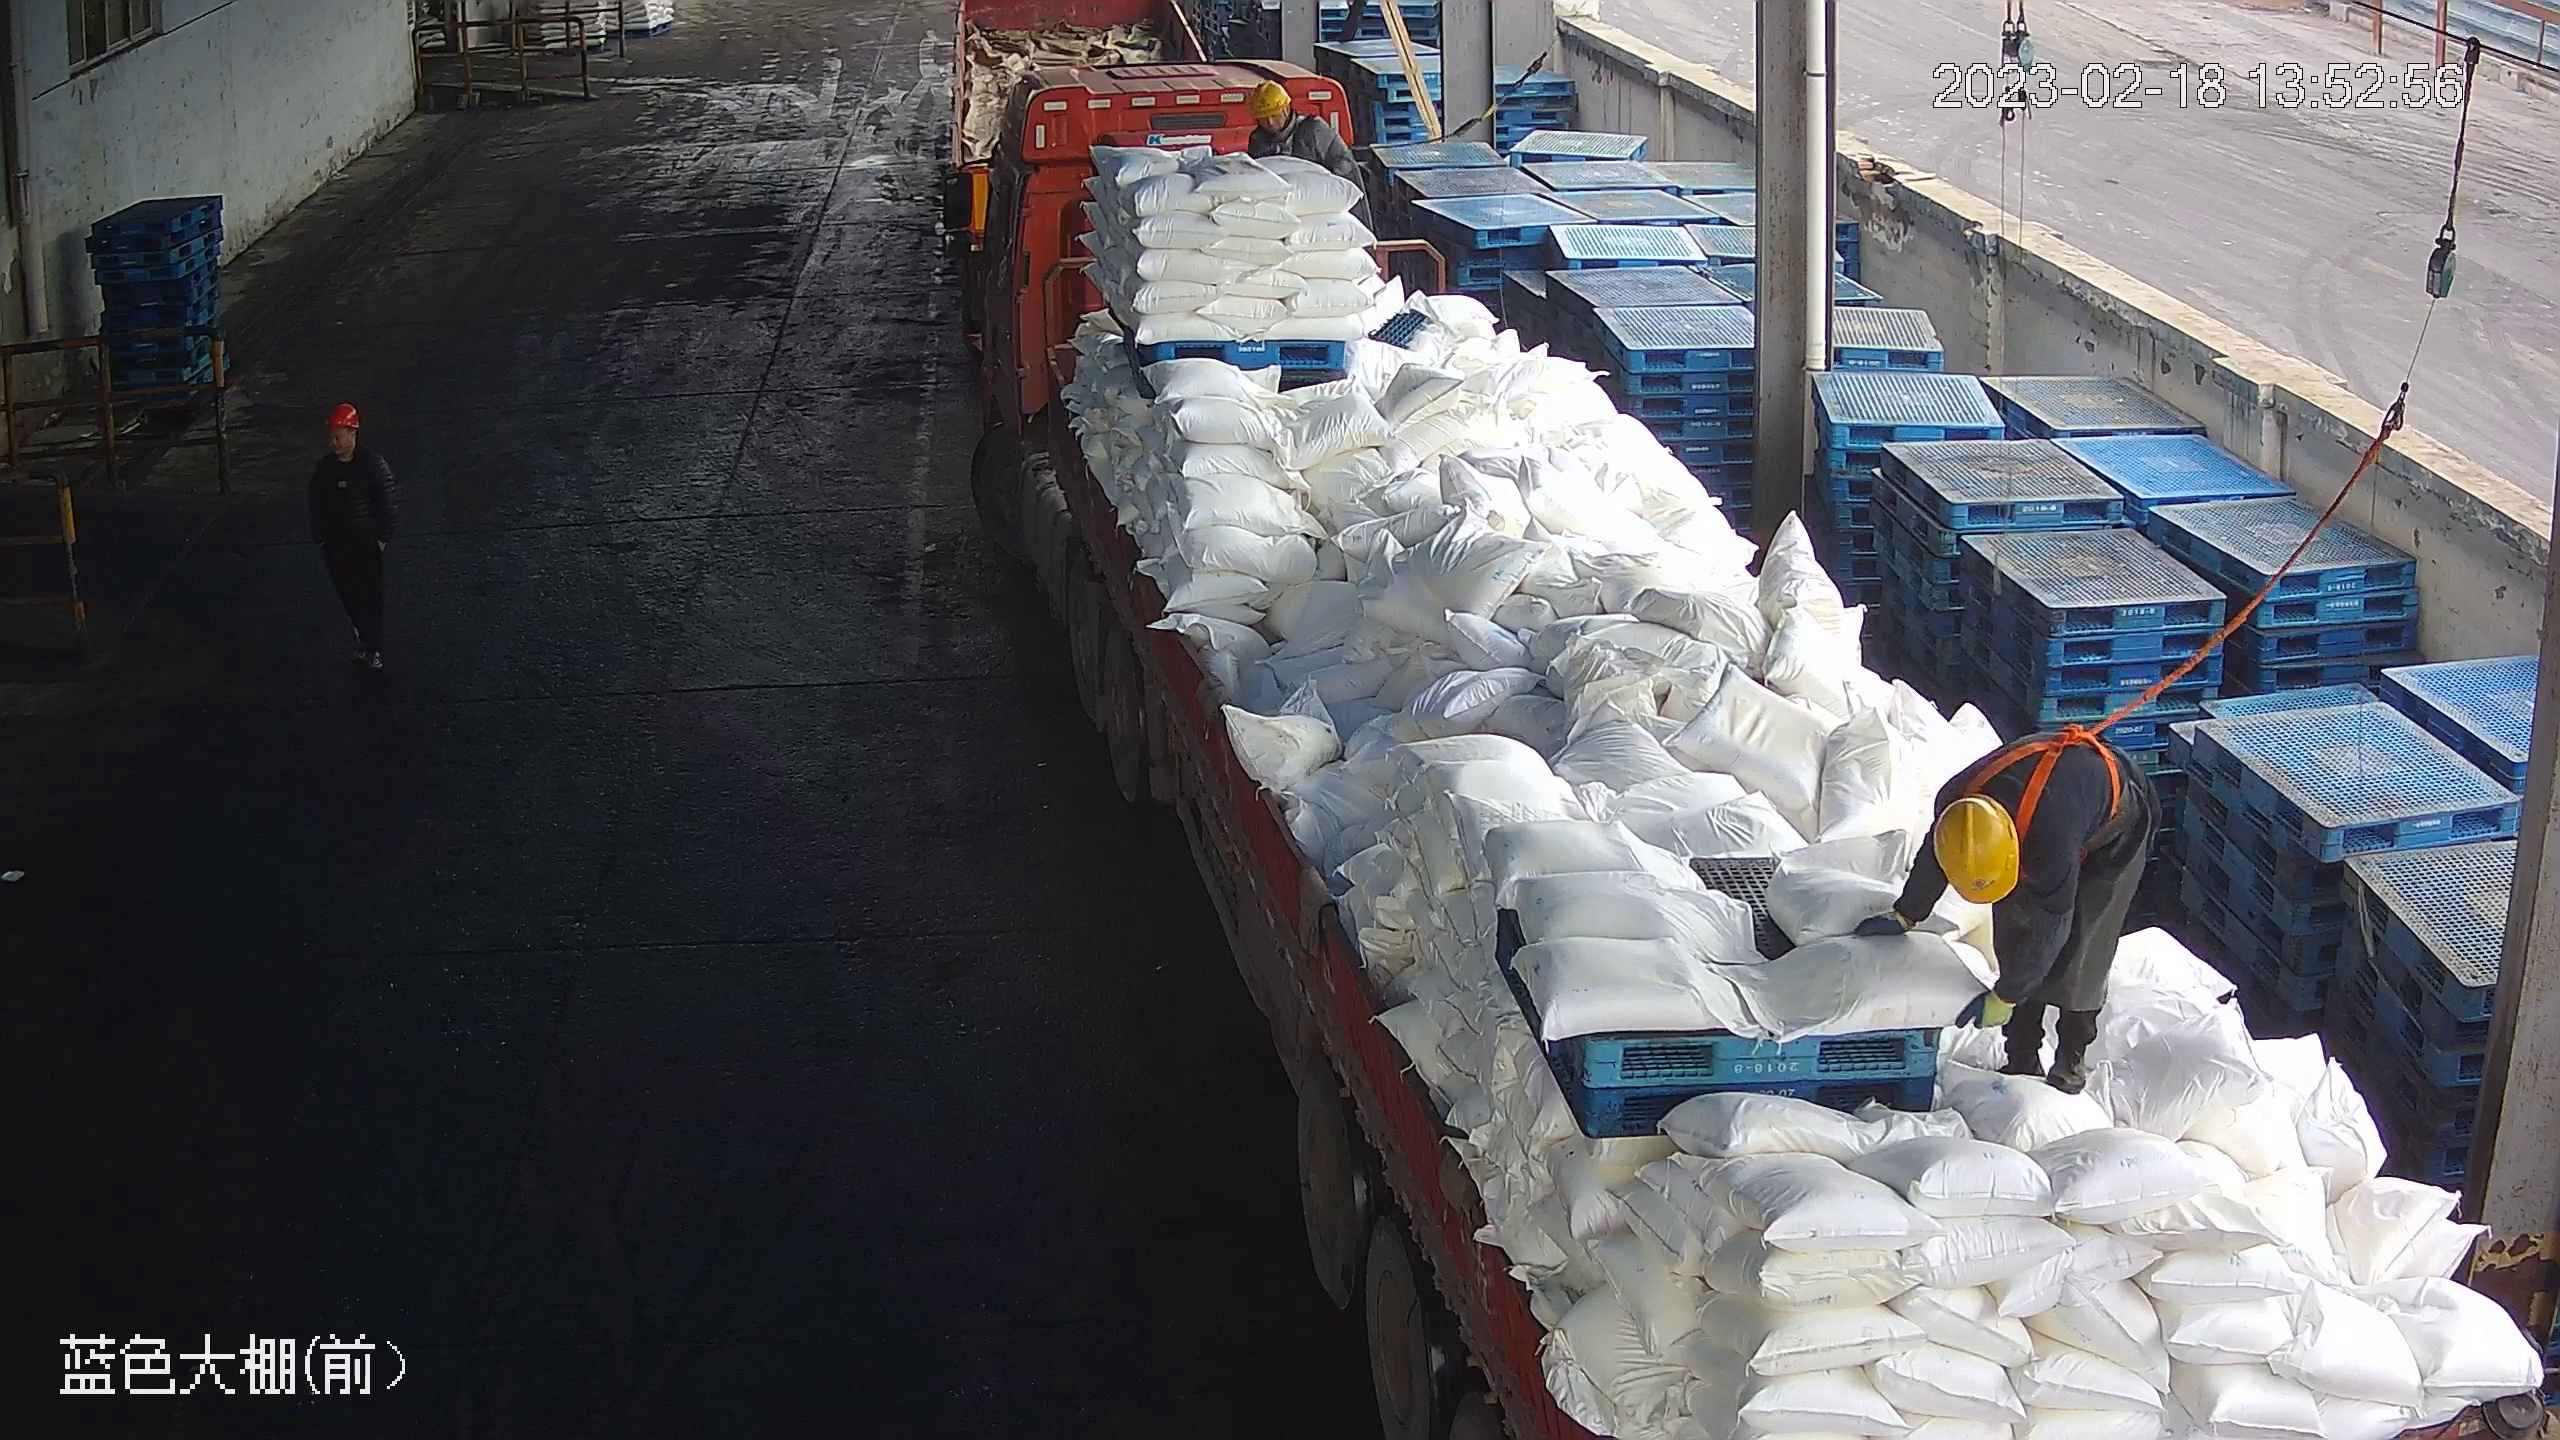belt: (1971, 713, 2134, 827), (1264, 111, 1316, 160)
head: (1906, 742, 2073, 925), (1247, 78, 1352, 166), (300, 403, 391, 501)
helmet: (1935, 791, 2017, 903), (1245, 78, 1291, 120), (329, 408, 359, 428)
people: (1854, 727, 2156, 1105), (303, 401, 396, 671)
truck: (935, 52, 2560, 1440)
